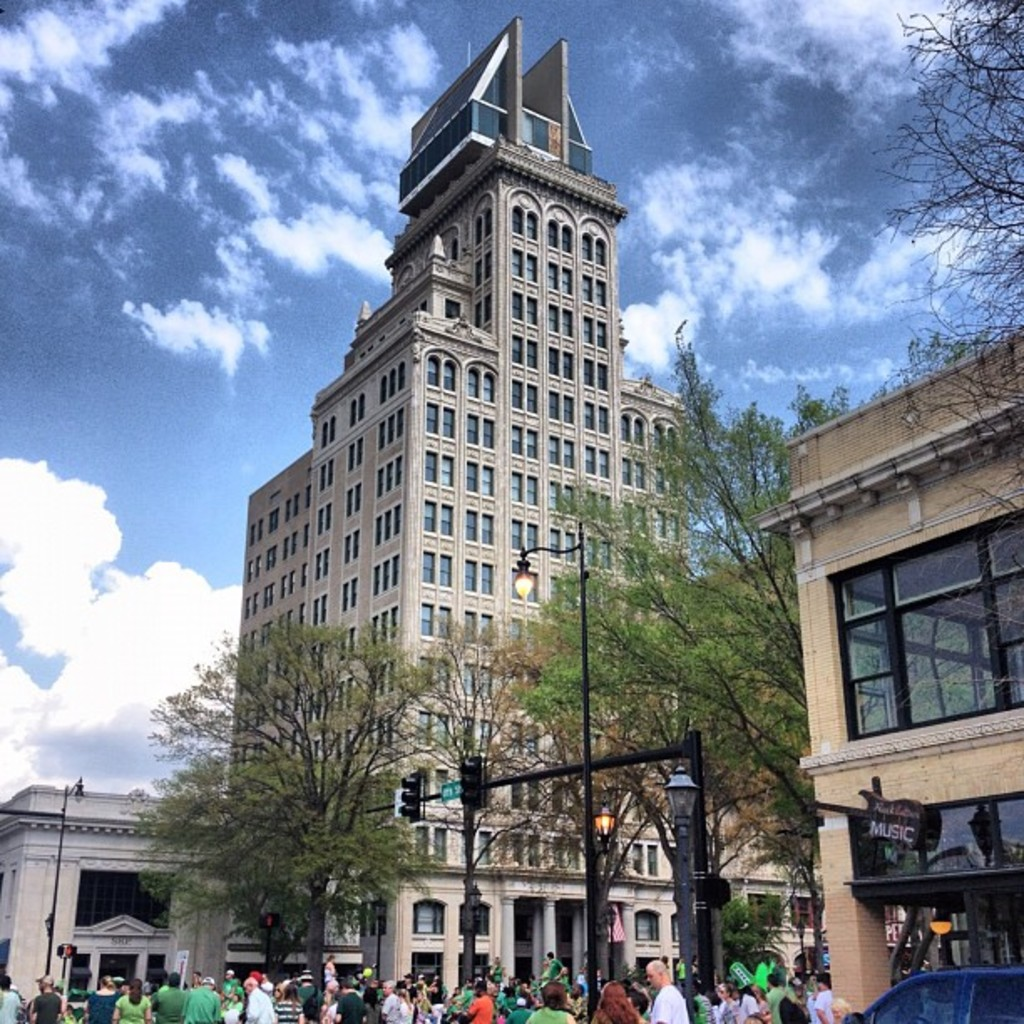Tree: (520, 322, 866, 881), (117, 620, 496, 987), (532, 609, 865, 1022), (836, 0, 1022, 512)
